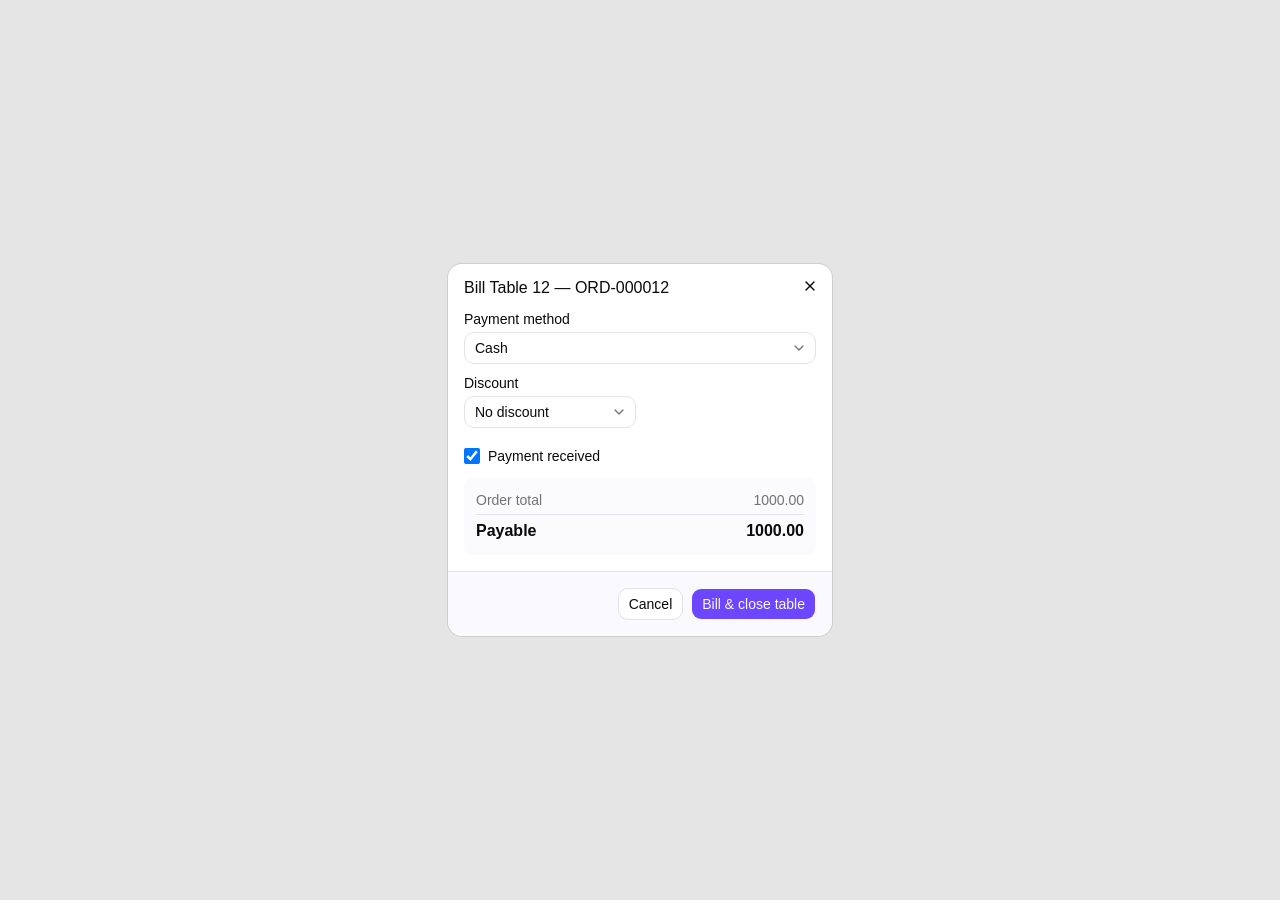
BillOrderDialog › explains that an unpaid bill goes to Outstanding rather than vanishing
The image size is (1280, 900).
What coordinates should you click on to do the following:
click the checkbox labelled "Payment received"
I would click on:
 (472, 456)
Its box is [464, 448, 480, 464].
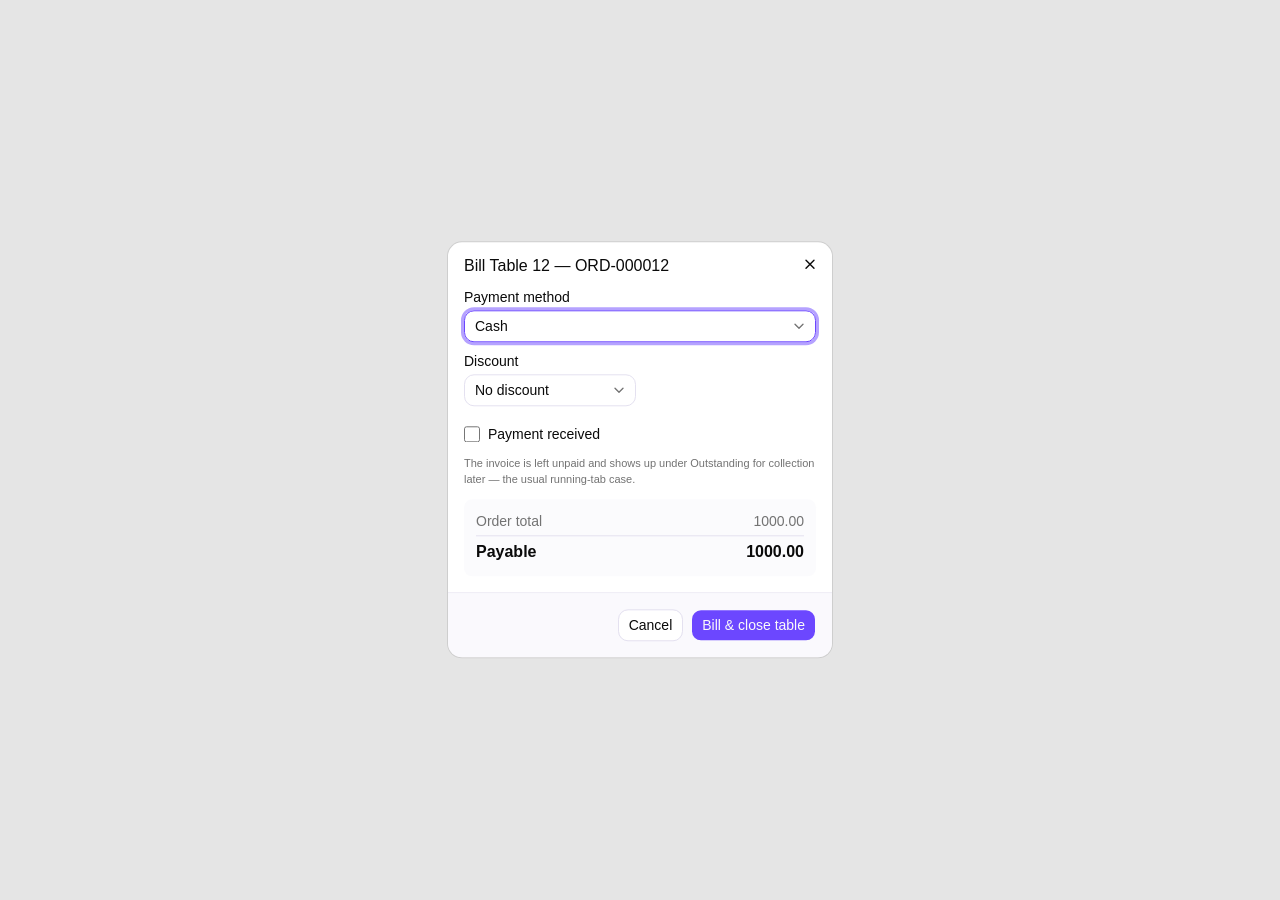
Expected: the text "Outstanding for collection later" is shown, [464, 457, 814, 485]
